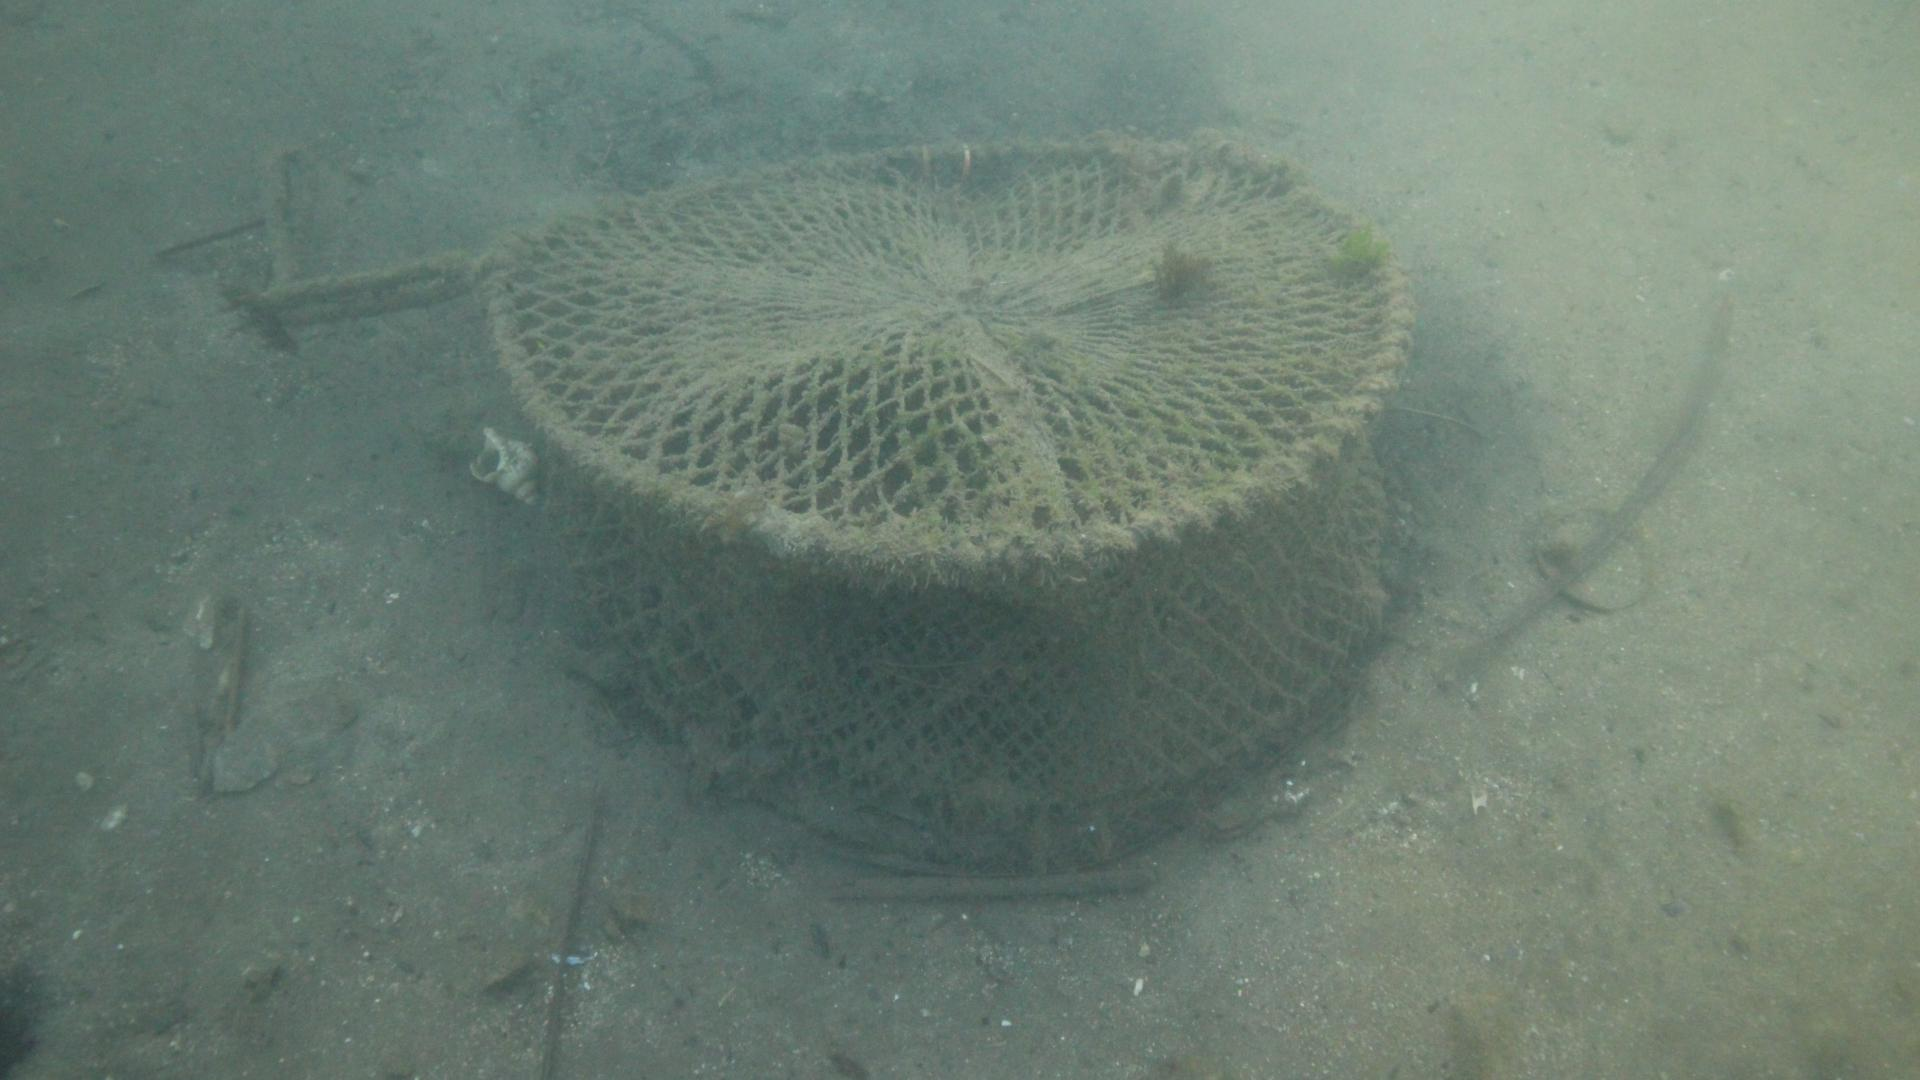circular fish trap: (479, 133, 1419, 873)
